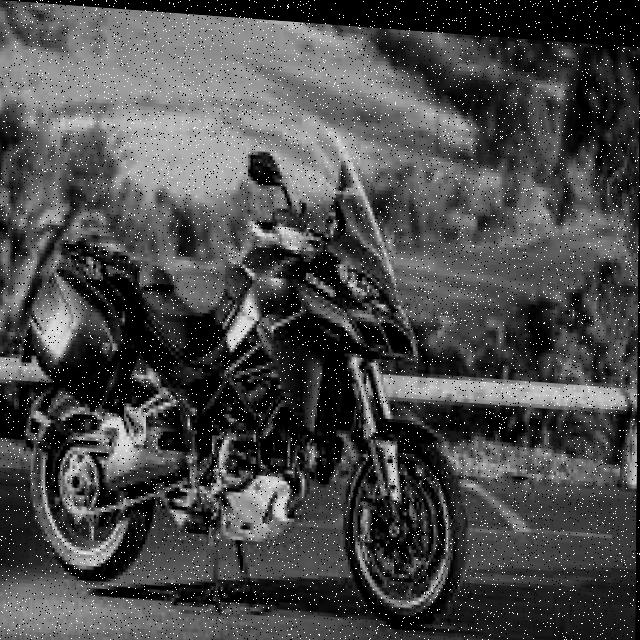bike: (11, 115, 505, 618)
